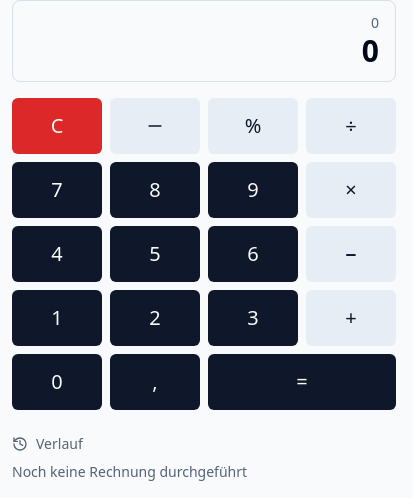
Calculator — Löschen und Sonderfunktionen › bricht eine begonnene Eingabe über C ab und setzt auf 0 zurück
The image size is (413, 498).
Click the button "7" at (57, 190), box [12, 162, 102, 218]
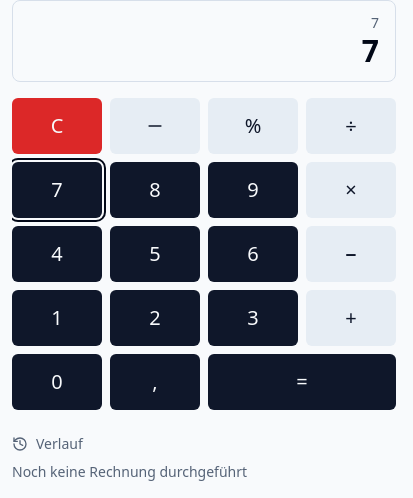
Click the button "6" at (253, 254), box [208, 226, 298, 282]
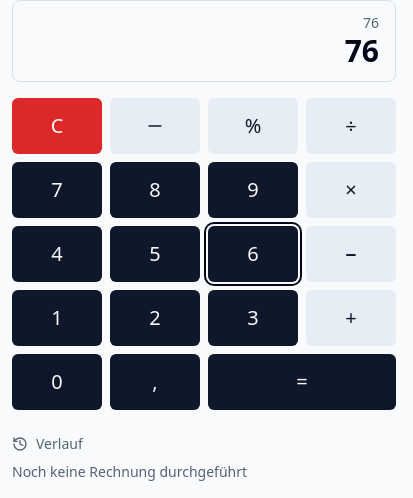
Click the button named "Löschen" at (57, 126), box [12, 98, 102, 154]
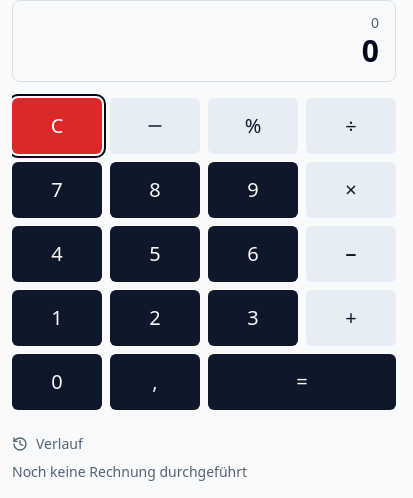
expect the 2nd text "0" is shown: met, box [362, 30, 379, 71]
